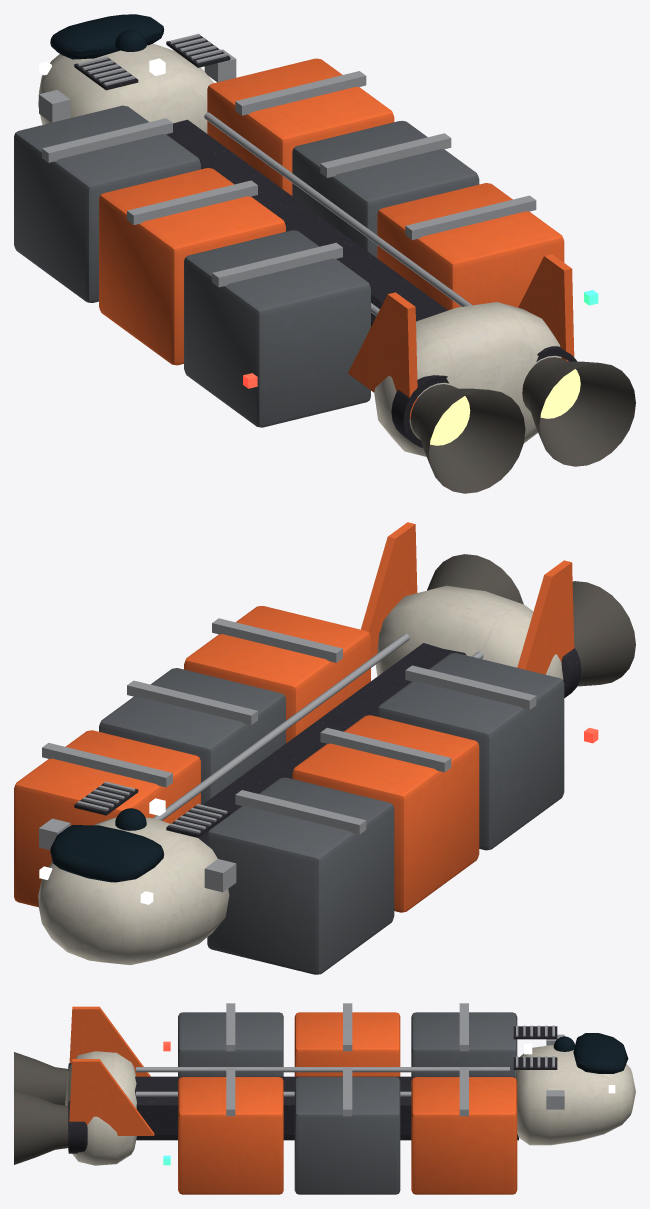
The model's file is game-mule.glb.
3 views of the same model, one above another, from view 1: azimuth 30°, elevation 25°; view 2: azimuth 150°, elevation 25°; view 3: azimuth 270°, elevation 25° (orthographic). The views are drawn at different scales.
Parts seen in each view (by area): view 1: mule; view 2: mule; view 3: mule.
Part boxes in pixels (x1,y1,x2,y2): mule: [14, 14, 635, 493]; mule: [14, 522, 635, 974]; mule: [14, 1003, 635, 1194].
Bounding box in the file's own units: 15.2 × 7.32 × 34.12.
6 materials, 2 textured.
